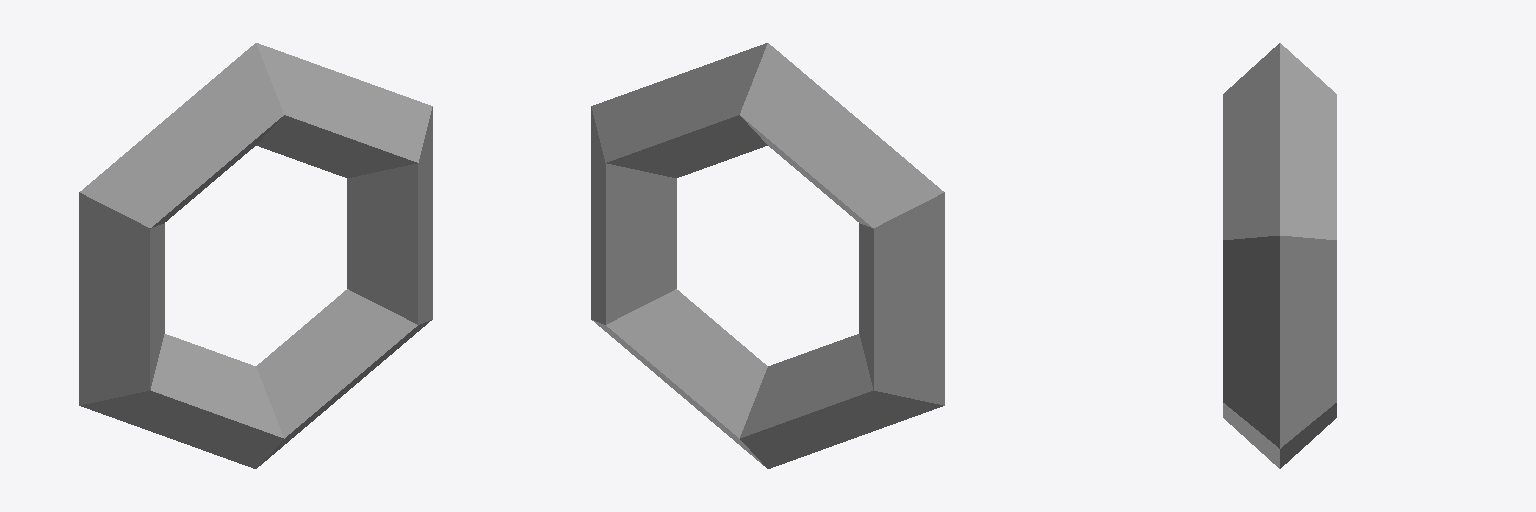
File: inductor-base.obj
3 views of the same model, side by side, from view 1: azimuth 30°, elevation 25°; view 2: azimuth 150°, elevation 25°; view 3: azimuth 270°, elevation 25° (orthographic).
Parts seen in each view (by area): view 1: inductor-base_Torus.001; view 2: inductor-base_Torus.001; view 3: inductor-base_Torus.001.
Boxes of the visible parts, <box> form: inductor-base_Torus.001: <box>79,43,432,468</box>; inductor-base_Torus.001: <box>591,43,944,468</box>; inductor-base_Torus.001: <box>1223,43,1336,468</box>.
Size of the model in its own units: 0.5023 by 0.58 by 0.14.